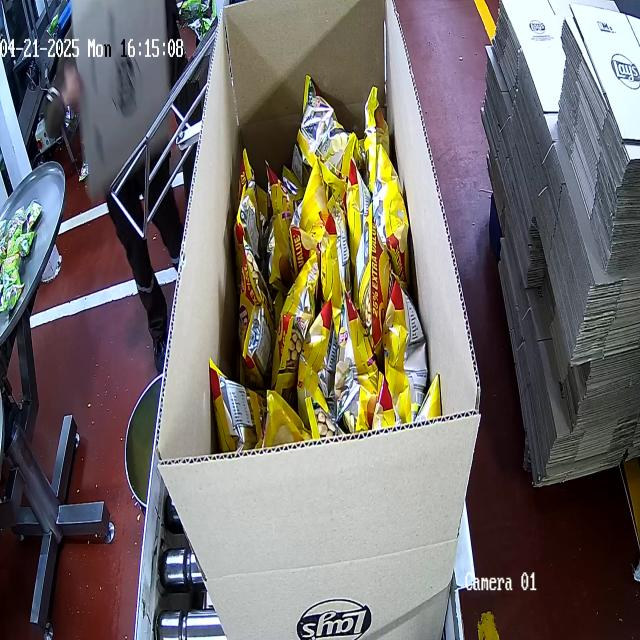SALTED: (209, 87, 440, 434)
